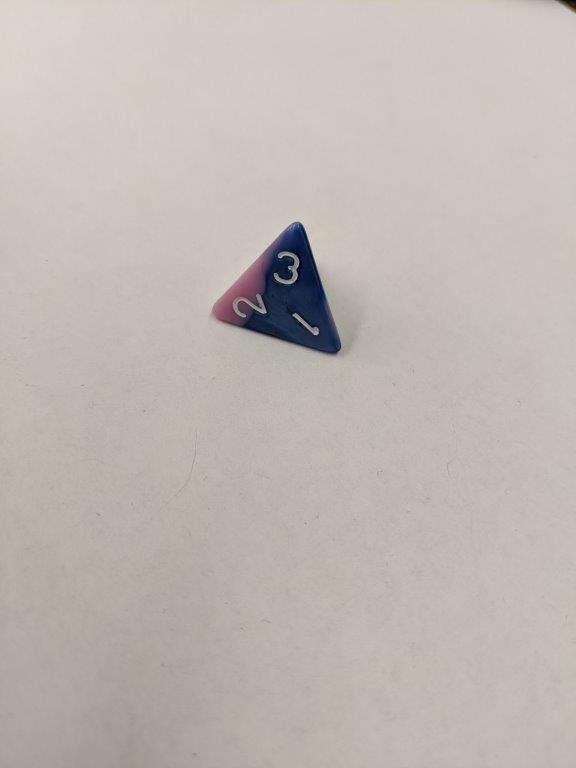d4-3: (208, 218, 345, 365)
